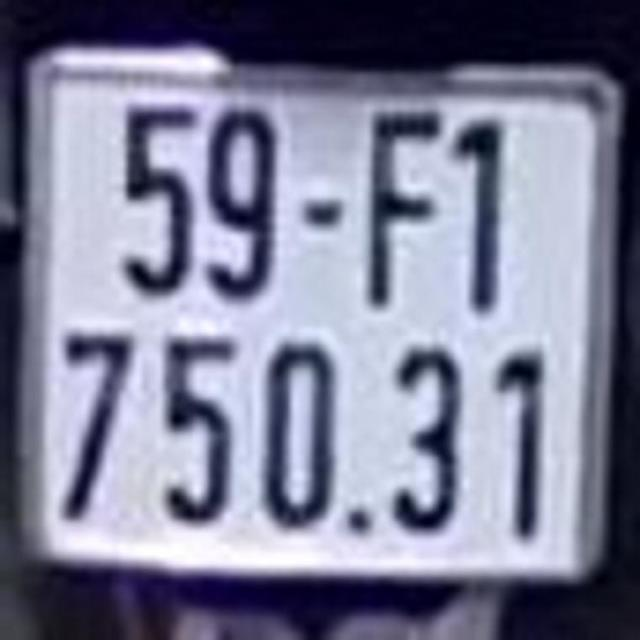0: (258, 333, 338, 524)
1: (484, 340, 550, 536), (450, 105, 506, 314)
3: (389, 338, 462, 535)
5: (154, 326, 238, 524), (118, 96, 197, 300)
7: (56, 324, 140, 520)
9: (202, 100, 281, 306)
F: (363, 99, 448, 311)
